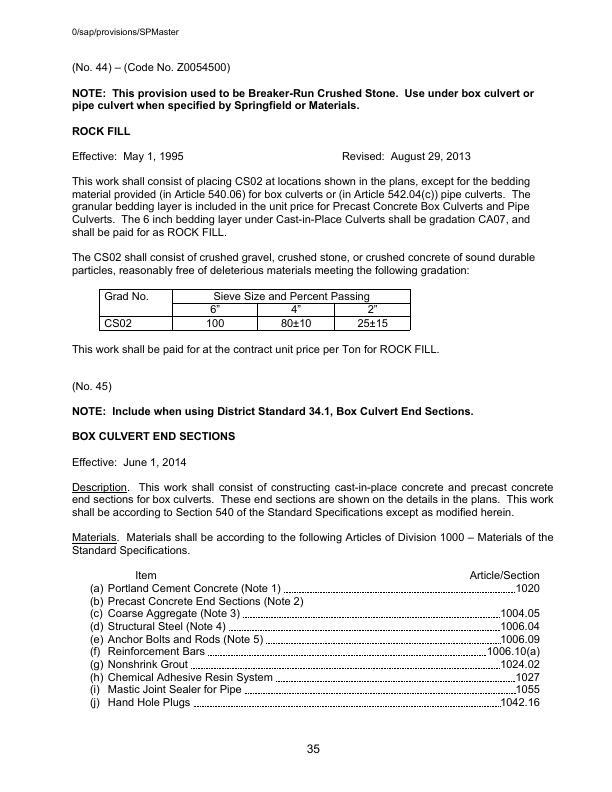table: (94, 285, 417, 333)
text: (85, 571, 549, 713), (67, 172, 540, 240), (69, 479, 560, 520), (71, 247, 540, 281), (67, 85, 540, 114), (68, 530, 558, 557), (70, 340, 446, 361), (69, 403, 480, 419), (72, 426, 240, 445), (66, 58, 233, 77), (336, 147, 480, 165), (66, 148, 192, 165), (70, 453, 190, 470), (69, 123, 136, 139), (69, 379, 113, 394)
